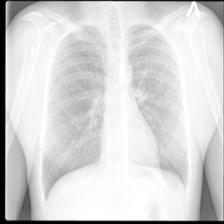tuberculosis: (39, 17, 195, 205)
